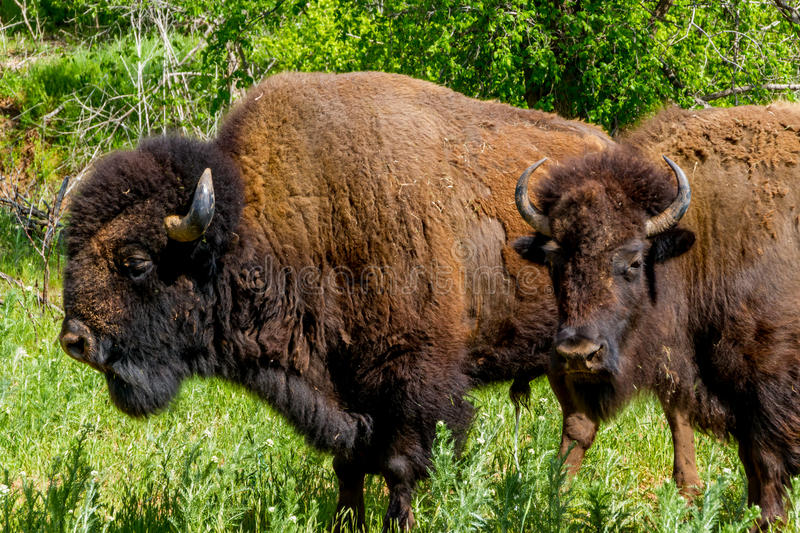zubr: (17, 45, 696, 522), (524, 81, 800, 491)
